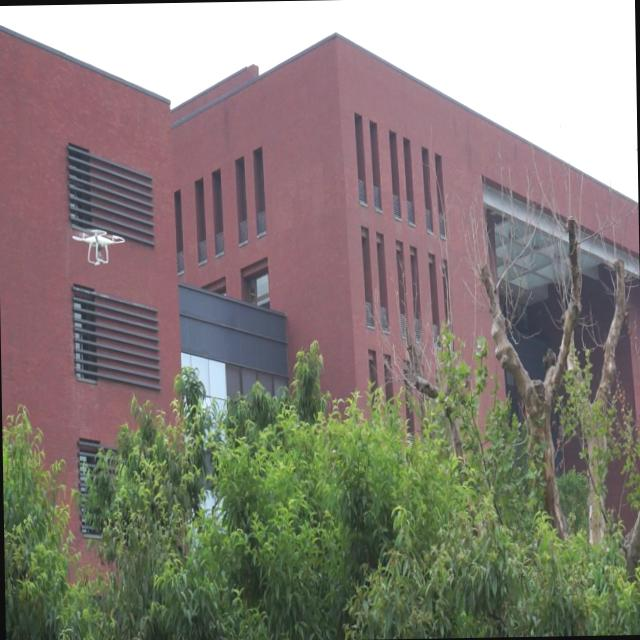drone: (68, 224, 127, 270)
